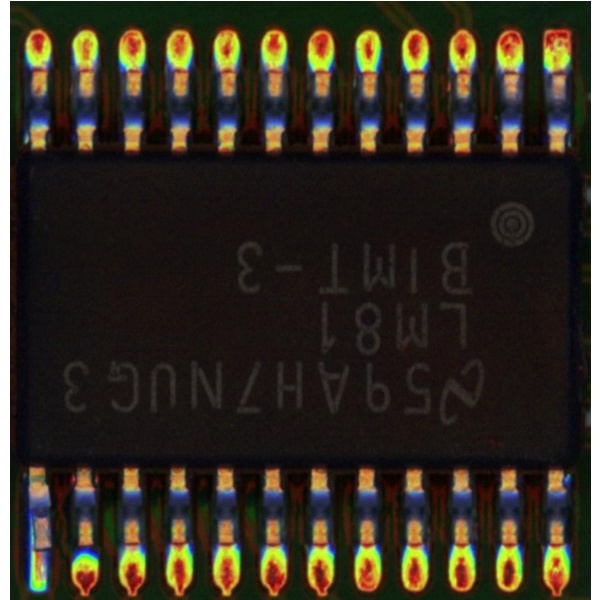Bad_podu: (34, 532, 47, 568)
Bad_qiaojiao: (29, 513, 35, 549)
